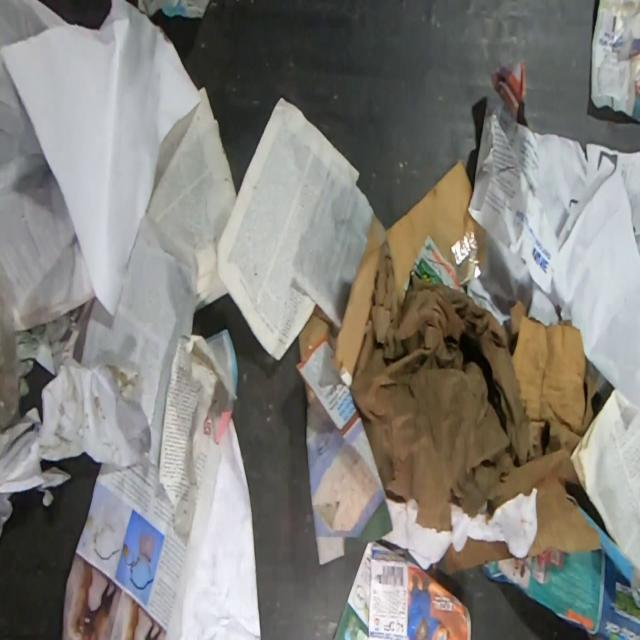cardboard: (331, 158, 482, 375), (482, 506, 640, 640), (511, 313, 600, 438), (590, 0, 640, 123), (433, 536, 515, 576)
soft_plastic: (0, 263, 21, 434)
